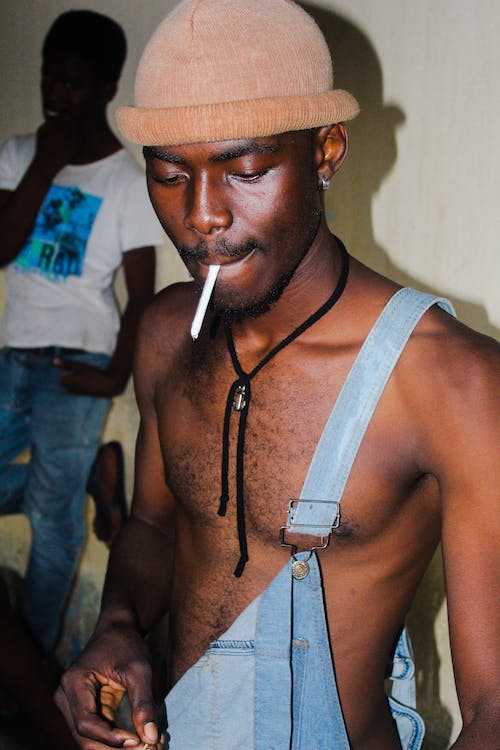cigarette: (185, 263, 224, 345)
